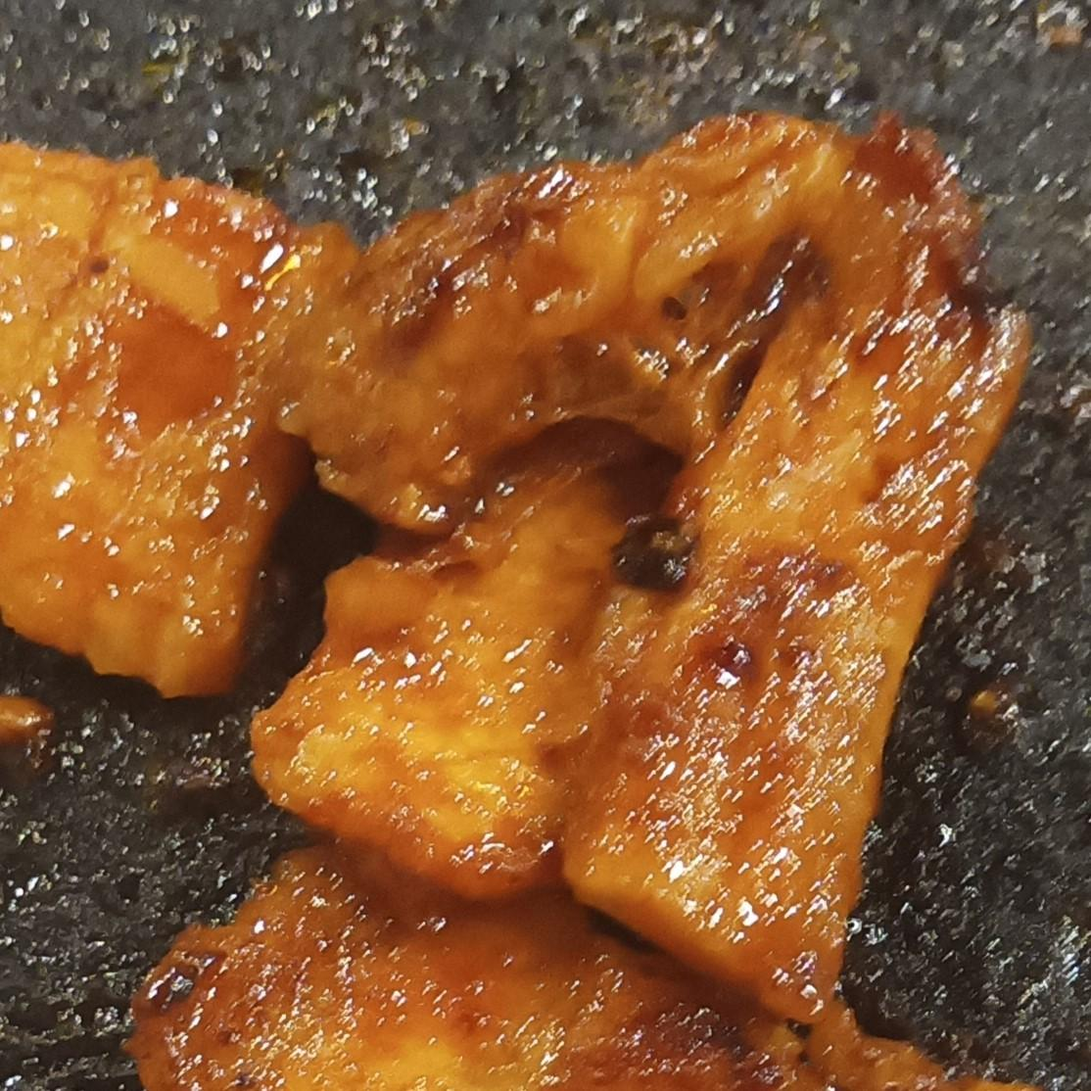Well-Cooked: (230, 116, 1027, 1090), (0, 159, 355, 695)
